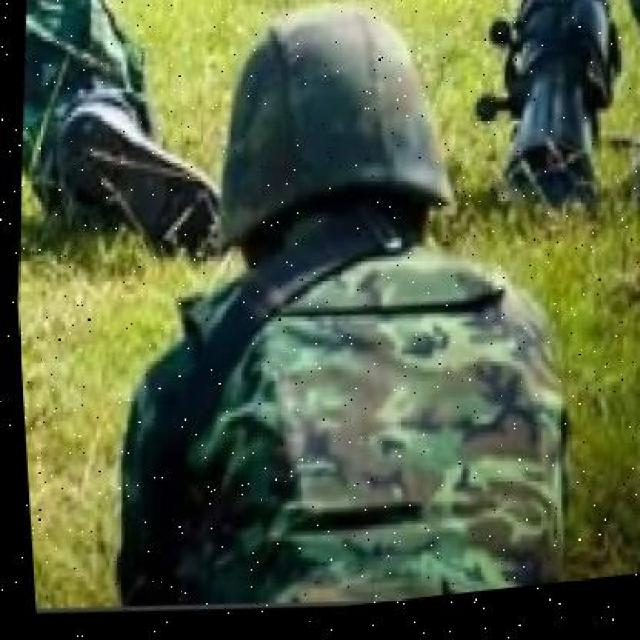MIL_Pax: (162, 2, 542, 626), (12, 0, 172, 245)
